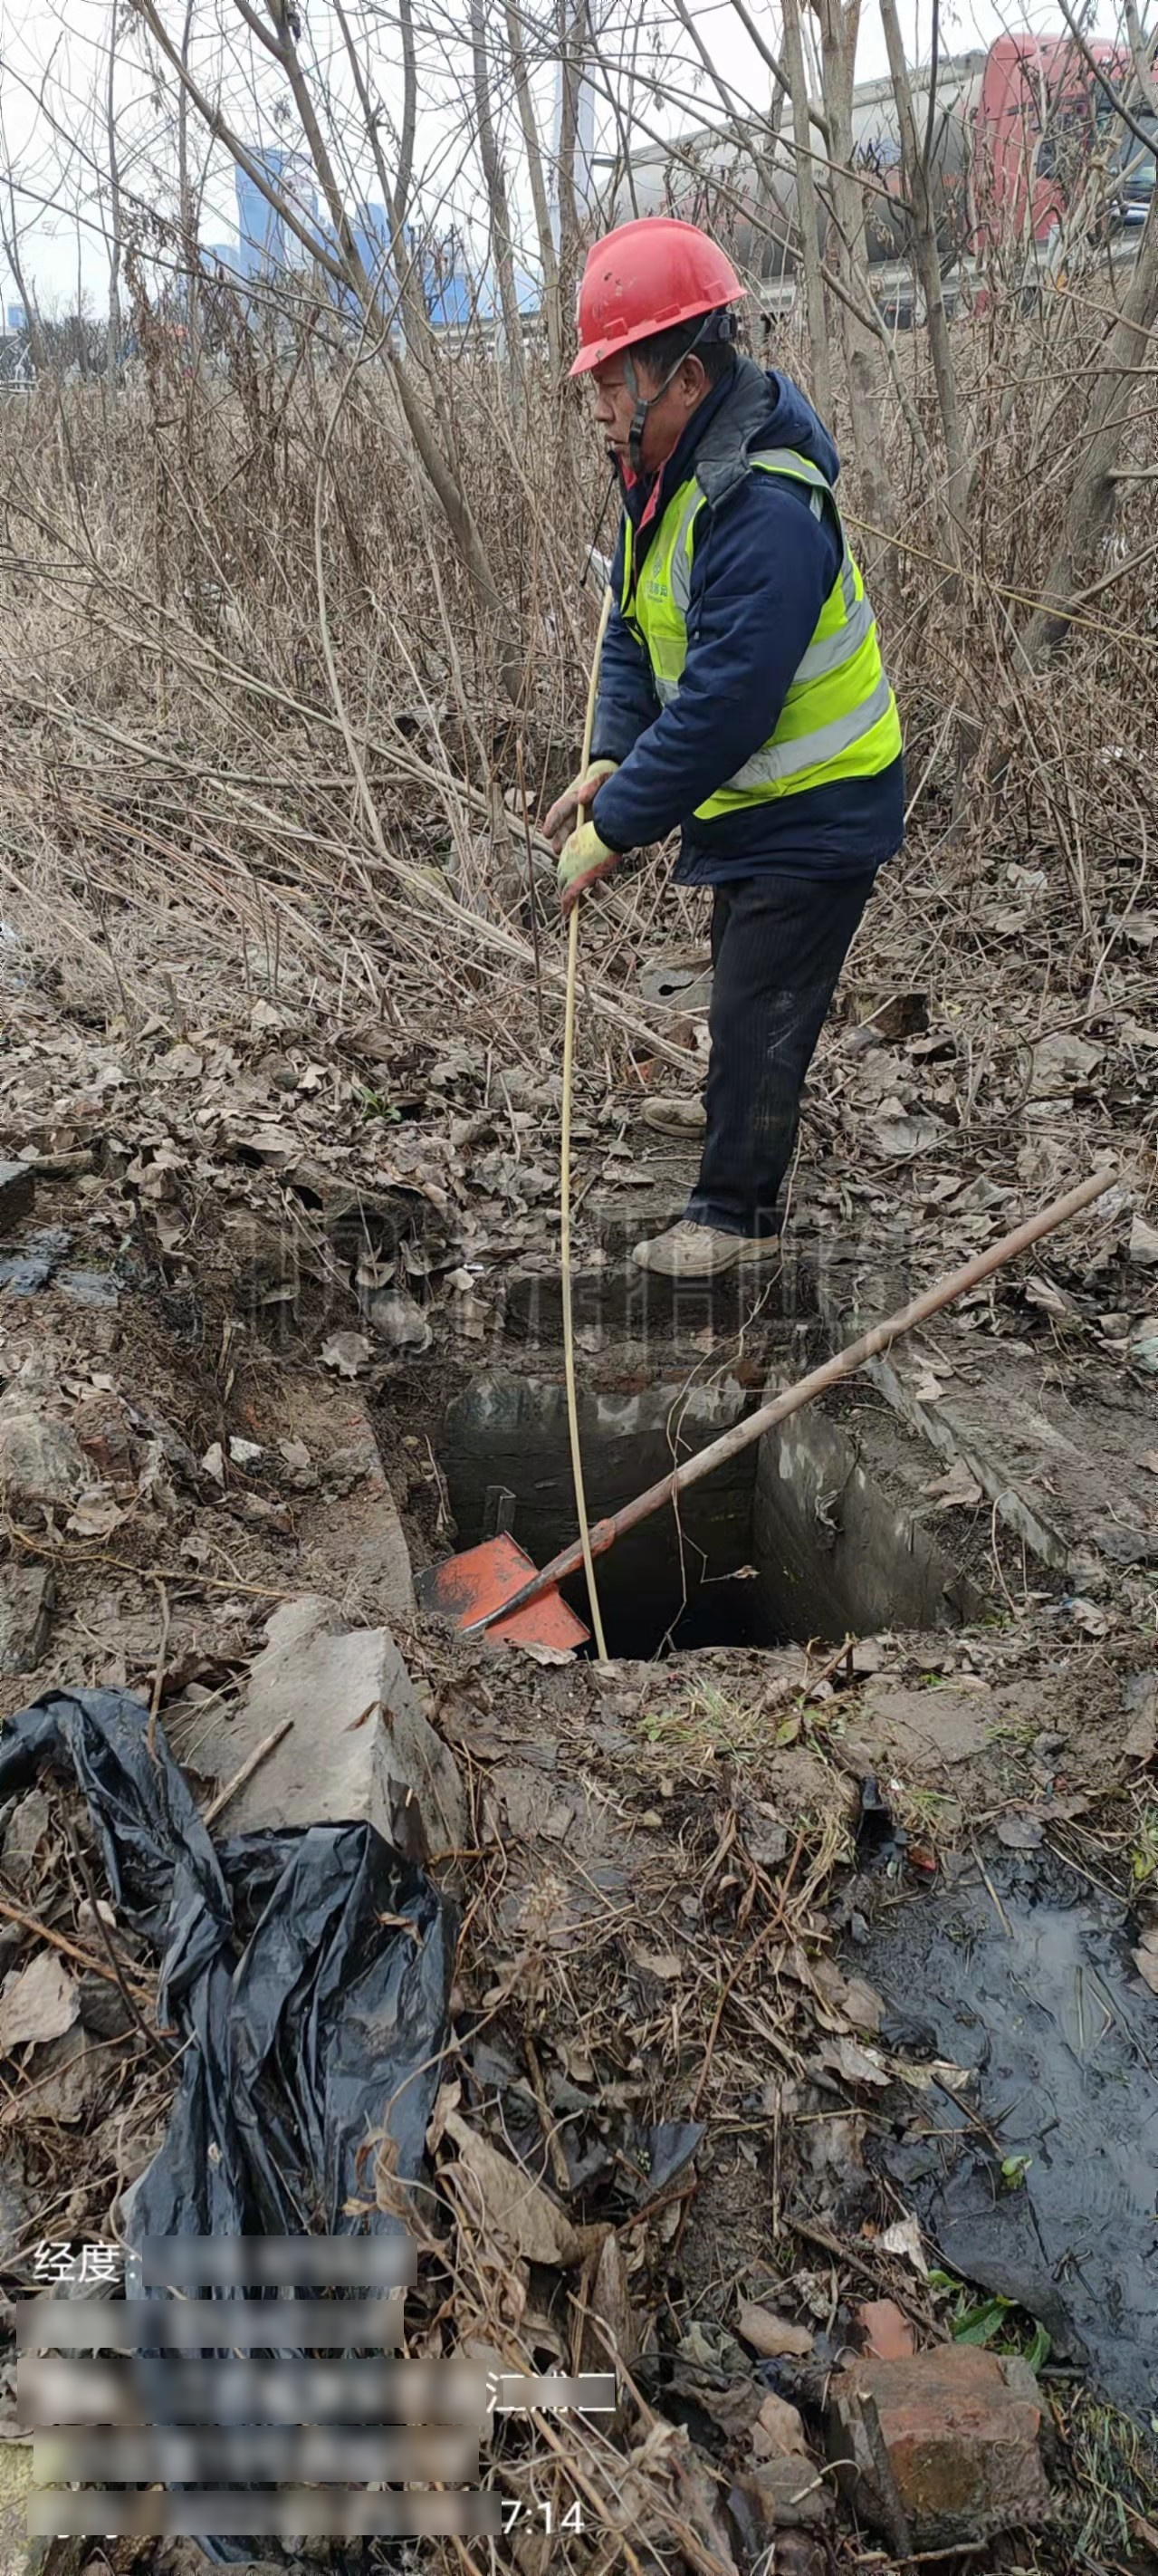lose: (347, 1352, 1079, 1684)
